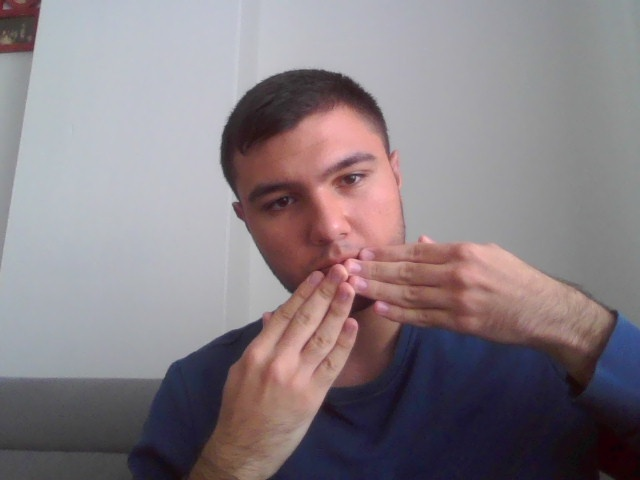thanks: (219, 237, 610, 384)
